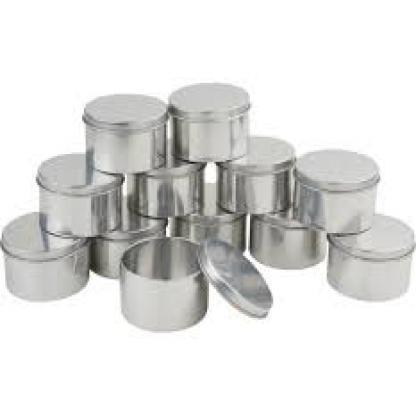METAL: (118, 237, 207, 331), (325, 210, 412, 300), (0, 212, 86, 300), (34, 152, 120, 235), (293, 148, 377, 231), (82, 92, 166, 172), (82, 152, 164, 233), (168, 83, 250, 160), (198, 239, 273, 318), (218, 133, 294, 210), (246, 198, 325, 270), (173, 181, 245, 250), (125, 156, 200, 214), (87, 220, 164, 276)
